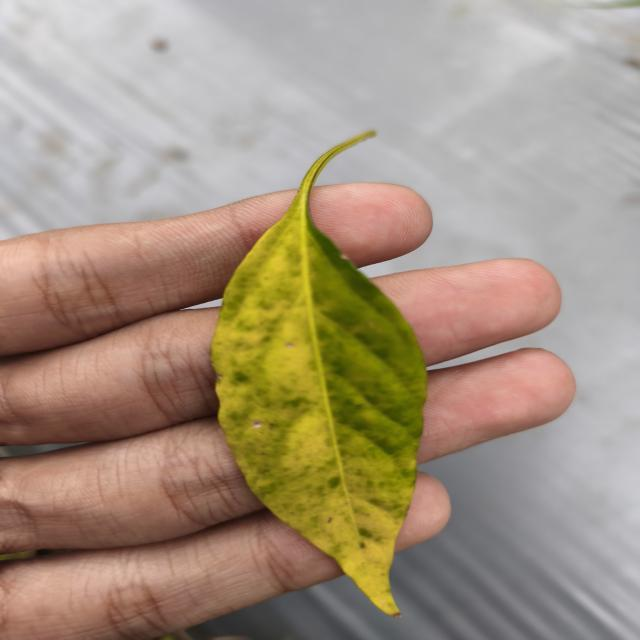Virus Kuning: (208, 200, 429, 618)
